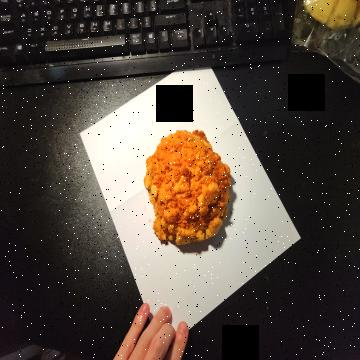soboru_bread: (141, 126, 229, 251)
